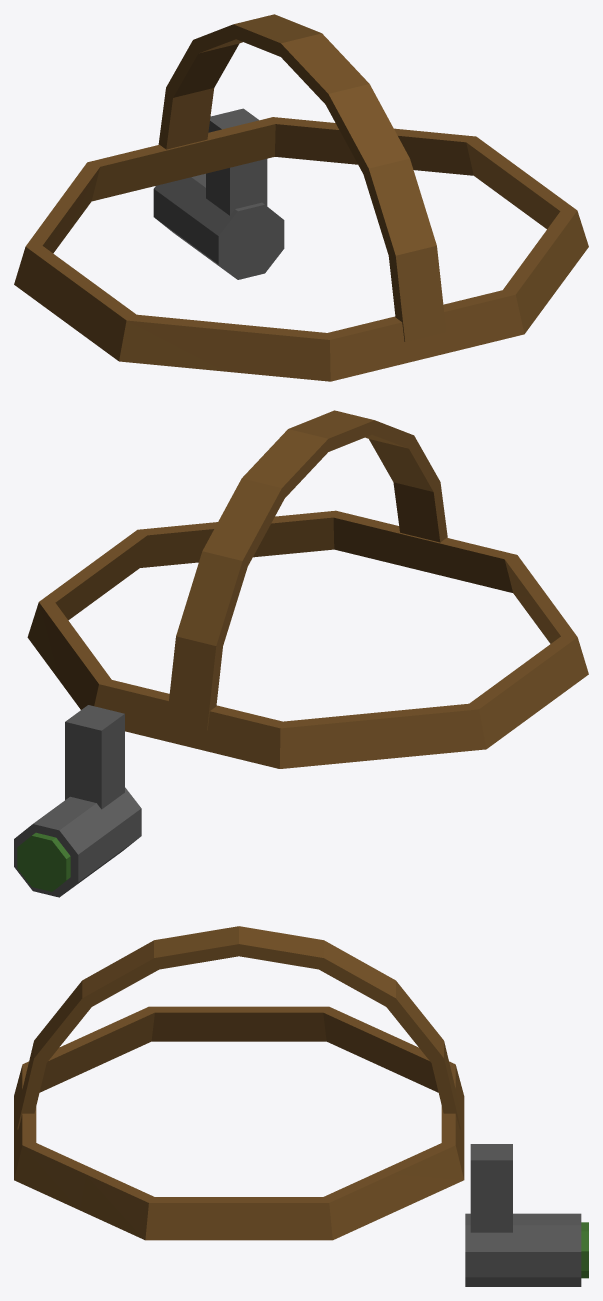
File: ce_gear_nv_simple.obj
The picture shows the model from 3 angles, top to bottom: view 1: azimuth 30°, elevation 25°; view 2: azimuth 150°, elevation 25°; view 3: azimuth 270°, elevation 25°; orthographic projection. The views are drawn at different scales.
Size of the model in its own units: 0.5018 by 0.3571 by 0.5957.
